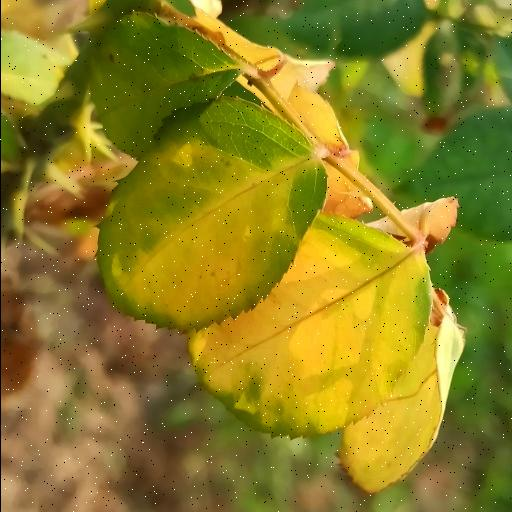healthy_leaf: (92, 14, 240, 156)
red_mite: (188, 214, 430, 436), (98, 98, 326, 328), (337, 304, 464, 492)
thrip: (399, 196, 458, 254), (366, 217, 408, 241)
